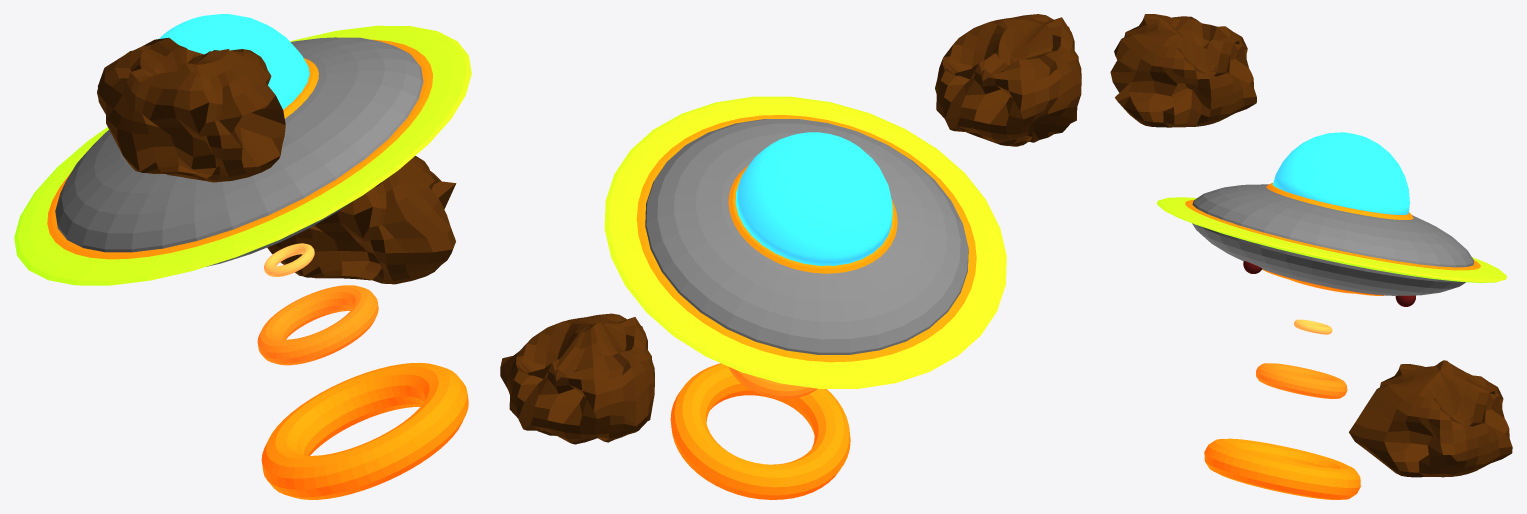
The model's file is ufo.glb.
The picture shows the model from 3 angles, left to right: view 1: azimuth 30°, elevation 25°; view 2: azimuth 150°, elevation 25°; view 3: azimuth 270°, elevation 25°; orthographic projection. The views are drawn at different scales.
Parts seen in each view (by area): view 1: ship, meteor1, meteor2; view 2: ship, meteor2, meteor1; view 3: ship, meteor2, meteor1.
Boxes of the visible parts, x1,y1,x2,y2 form: ship: (14,14,471,499); meteor1: (97,37,285,182); meteor2: (267,156,456,284); ship: (604,96,1006,499); meteor2: (500,313,654,444); meteor1: (935,14,1081,146); ship: (1157,132,1506,499); meteor2: (1349,360,1512,477); meteor1: (1110,14,1256,127).
Bounding box in the file's own units: 6.2 × 6.22 × 5.72.
